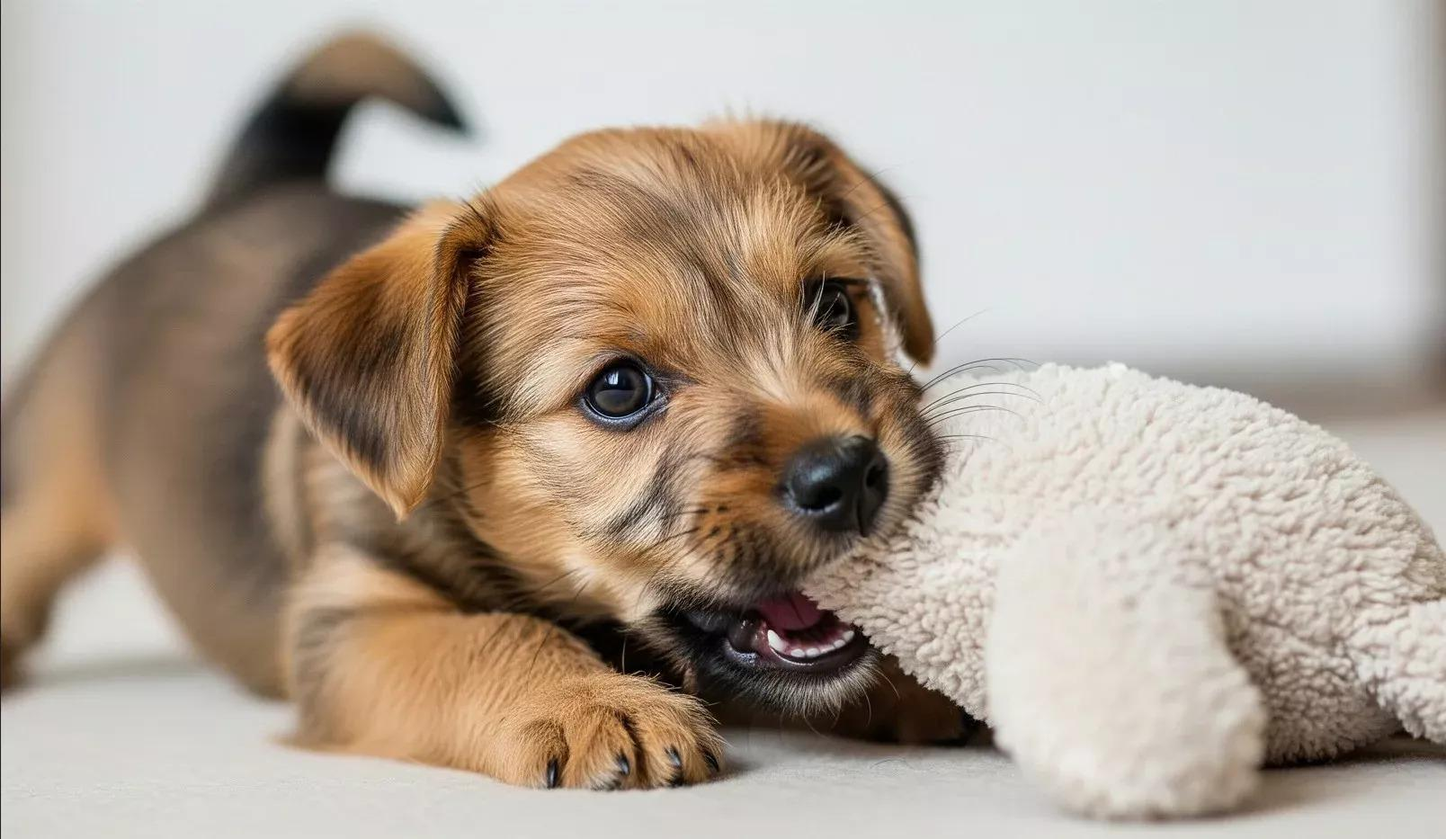puppy-dog: (0, 15, 992, 791)
